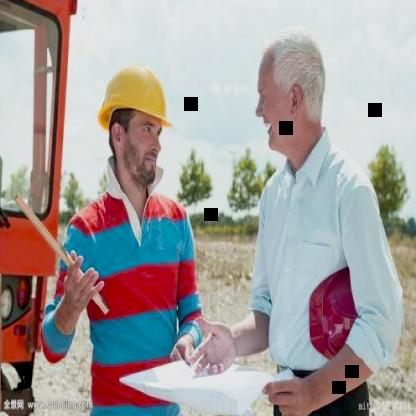head: (250, 22, 340, 174)
helmet: (90, 44, 180, 198)
